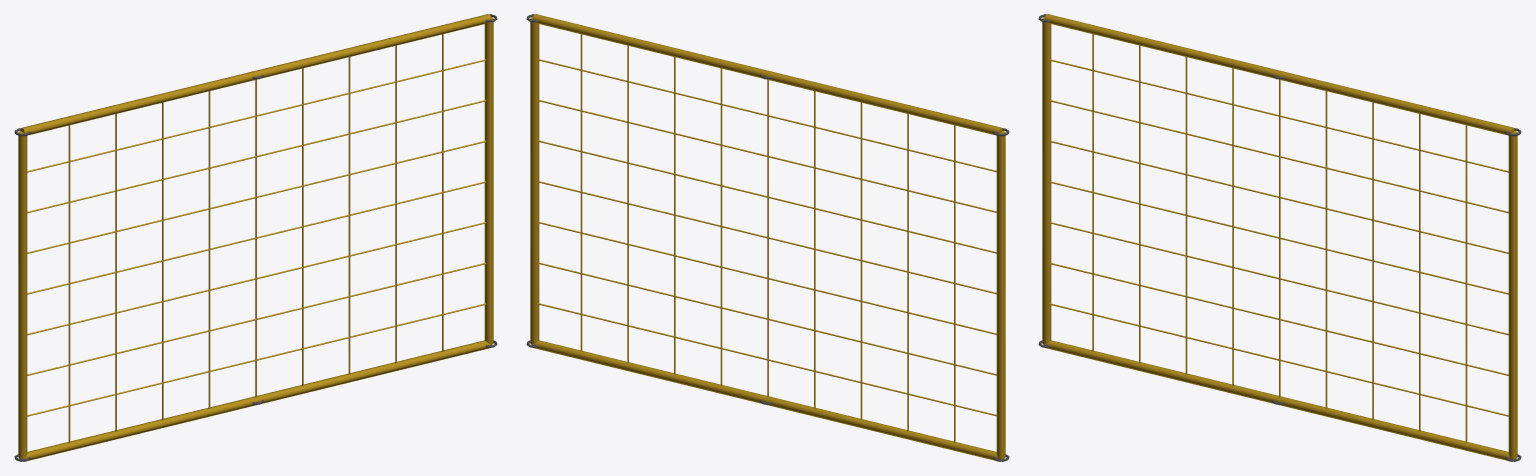
The model's file is safety_net_fabric.obj.
3 views of the same model, side by side, from view 1: azimuth 30°, elevation 25°; view 2: azimuth 150°, elevation 25°; view 3: azimuth 330°, elevation 25° (orthographic).
Parts seen in each view (by area): view 1: cyl_2, cyl_0, cyl_3, cyl_1, cyl_17, cyl_19, cyl_13, cyl_16, cyl_18, cyl_15, cyl_14, cyl_7 (+8 smaller); view 2: cyl_2, cyl_0, cyl_3, cyl_1, cyl_15, cyl_16, cyl_13, cyl_19, cyl_14, cyl_17, cyl_18, cyl_9 (+8 smaller); view 3: cyl_2, cyl_0, cyl_1, cyl_3, cyl_17, cyl_19, cyl_13, cyl_16, cyl_18, cyl_15, cyl_14, cyl_9 (+8 smaller).
Part boxes in pixels (<box>): cyl_2: <box>20,14,491,135</box>; cyl_0: <box>24,340,490,461</box>; cyl_3: <box>18,130,27,459</box>; cyl_1: <box>484,16,493,345</box>; cyl_17: <box>27,140,486,253</box>; cyl_19: <box>27,59,486,172</box>; cyl_13: <box>27,303,486,416</box>; cyl_16: <box>27,181,486,294</box>; cyl_18: <box>27,100,486,213</box>; cyl_15: <box>27,222,486,335</box>; cyl_14: <box>27,262,486,375</box>; cyl_7: <box>208,91,210,408</box>; cyl_2: <box>532,14,1003,135</box>; cyl_0: <box>533,340,999,461</box>; cyl_3: <box>996,130,1005,459</box>; cyl_1: <box>530,16,539,345</box>; cyl_15: <box>538,221,996,334</box>; cyl_16: <box>538,181,996,294</box>; cyl_13: <box>538,303,996,416</box>; cyl_19: <box>538,59,996,172</box>; cyl_14: <box>538,262,996,375</box>; cyl_17: <box>538,140,996,253</box>; cyl_18: <box>538,99,996,212</box>; cyl_9: <box>720,68,722,385</box>; cyl_2: <box>1044,14,1515,135</box>; cyl_0: <box>1045,340,1511,461</box>; cyl_1: <box>1508,130,1517,459</box>; cyl_3: <box>1042,16,1051,345</box>; cyl_17: <box>1049,140,1508,253</box>; cyl_19: <box>1049,59,1508,172</box>; cyl_13: <box>1049,303,1508,416</box>; cyl_16: <box>1049,181,1508,294</box>; cyl_18: <box>1049,100,1508,213</box>; cyl_15: <box>1049,222,1508,335</box>; cyl_14: <box>1049,262,1508,375</box>; cyl_9: <box>1325,91,1327,408</box>.
Size of the model in its own units: 3.1 by 2.04 by 0.096.
